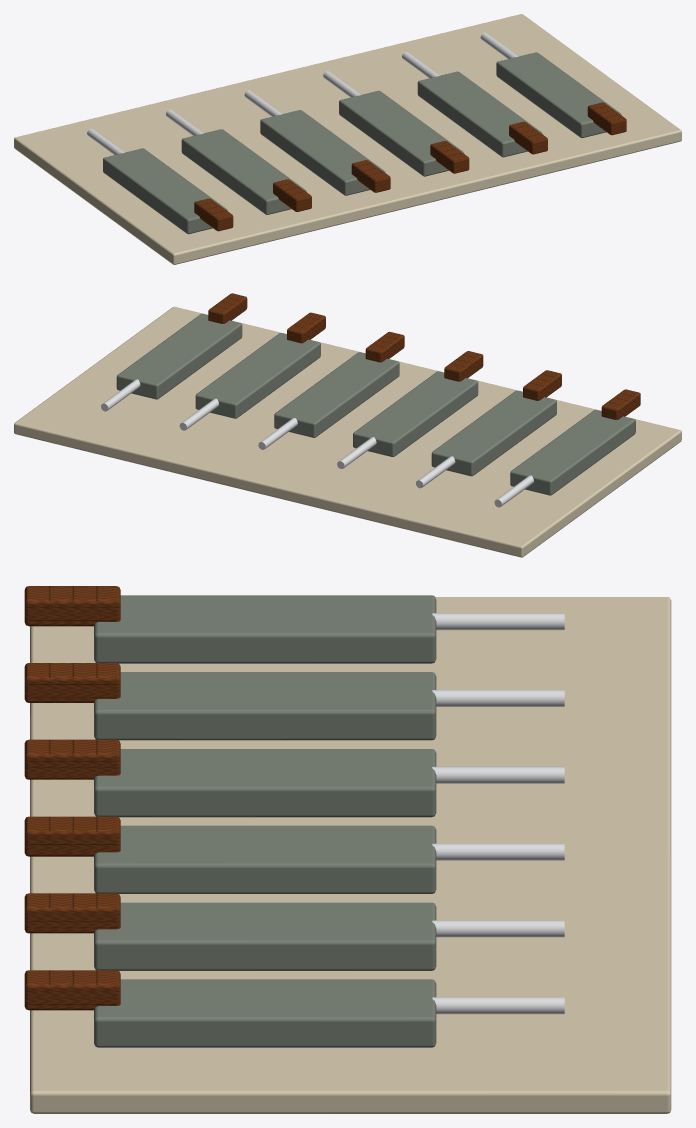
The model's file is fps-weapon-set-and-firing-range-tool-roll-64381a70__19525.glb.
3 views of the same model, one above another, from view 1: azimuth 30°, elevation 25°; view 2: azimuth 150°, elevation 25°; view 3: azimuth 270°, elevation 25° (orthographic). The views are drawn at different scales.
Parts seen in each view (by area): view 1: tool-roll; view 2: tool-roll; view 3: tool-roll.
Boxes of the visible parts, <box> form: tool-roll: <box>14,14,681,264</box>; tool-roll: <box>14,293,681,557</box>; tool-roll: <box>24,586,671,1113</box>.
Size of the model in its own units: 0.55 by 0.039 by 0.3025.
4 materials, 1 textured.
